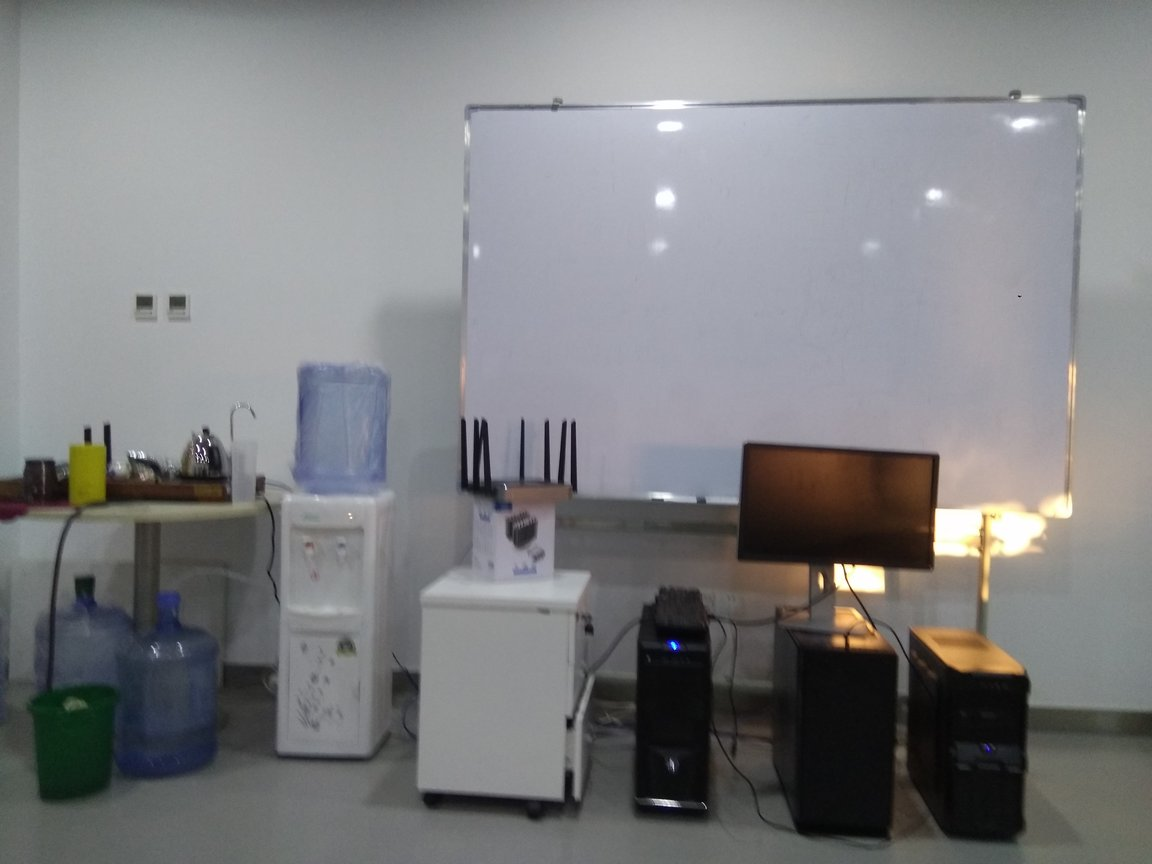computer: (769, 600, 901, 846), (907, 626, 1030, 851), (636, 599, 720, 832)
monitor: (424, 561, 597, 832), (742, 439, 936, 635)
scuttlebutt: (33, 575, 140, 762), (123, 593, 222, 786), (288, 362, 398, 494)
water dispenser: (278, 484, 383, 760)
